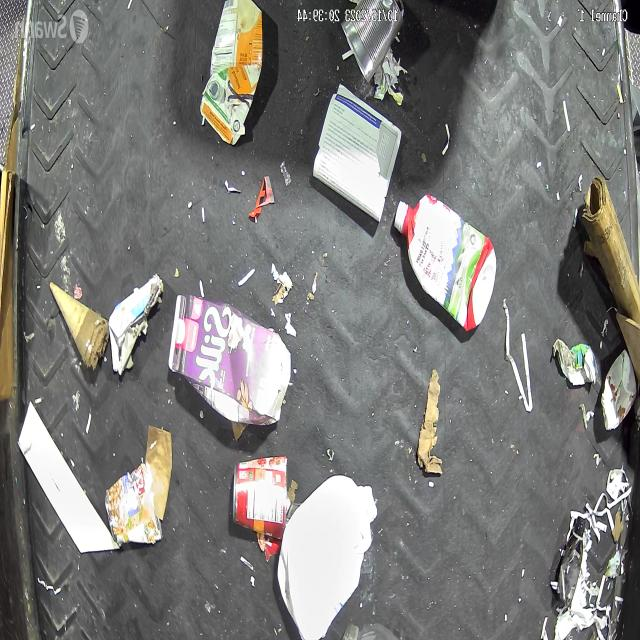can: (329, 0, 402, 91), (226, 446, 294, 537)
milk_jug: (274, 473, 379, 640)
